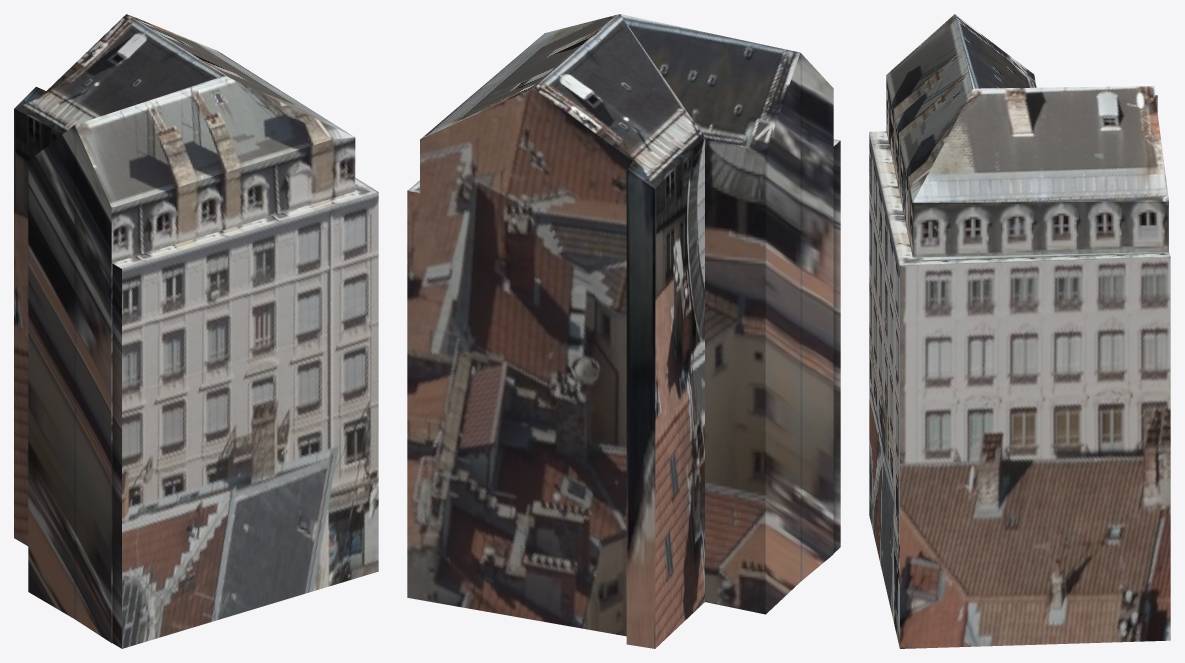
The picture shows the model from 3 angles, left to right: view 1: azimuth 30°, elevation 25°; view 2: azimuth 150°, elevation 25°; view 3: azimuth 270°, elevation 25°; orthographic projection. The views are drawn at different scales.
Parts seen in each view (by area): view 1: Z_UP; view 2: Z_UP; view 3: Z_UP.
Boxes of the visible parts, bbox=[...] form: Z_UP: bbox=[14, 14, 378, 648]; Z_UP: bbox=[407, 14, 840, 648]; Z_UP: bbox=[869, 14, 1170, 648].
Size of the model in its own units: 15.28 by 25.61 by 13.93.
2 materials, 1 textured.
